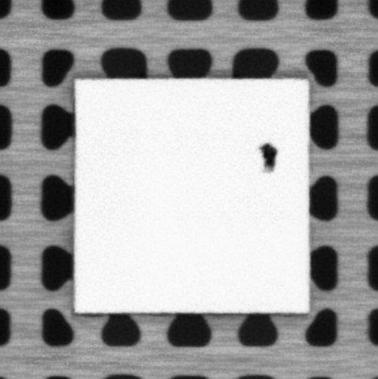DIE_INK: (258, 141, 279, 173)
